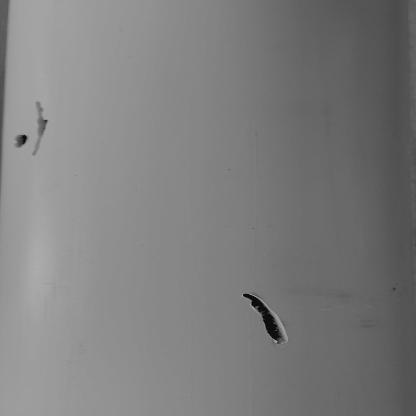kongdong: (231, 276, 294, 348), (32, 92, 59, 164), (14, 123, 29, 149)
